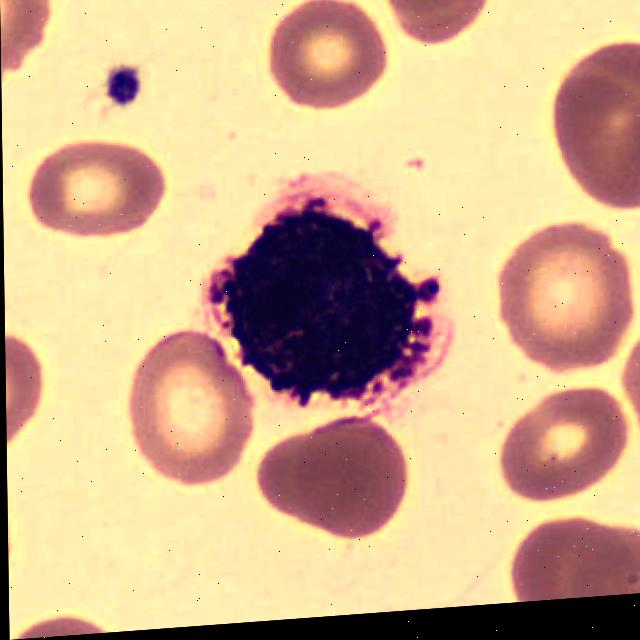basophil: (212, 172, 442, 410)
platelets: (112, 55, 149, 113)
rbc: (258, 409, 429, 553), (130, 318, 253, 506), (491, 226, 635, 385), (543, 25, 640, 228), (492, 375, 635, 508), (32, 138, 183, 252), (269, 0, 389, 118), (503, 501, 640, 603), (371, 0, 502, 55), (5, 326, 48, 446), (9, 593, 112, 640), (0, 0, 59, 74), (622, 325, 640, 434)
